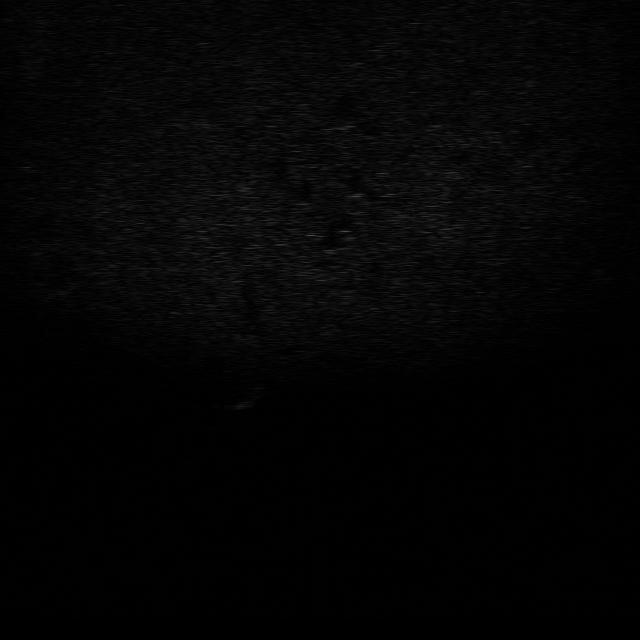human body: (216, 382, 268, 427)
